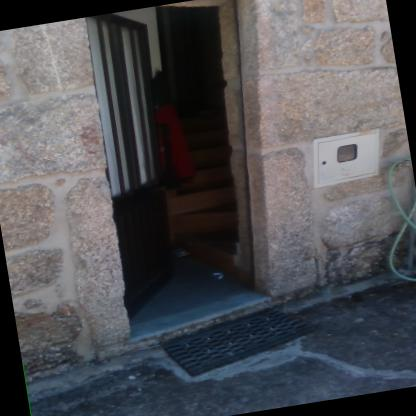semi: (64, 0, 304, 346)
